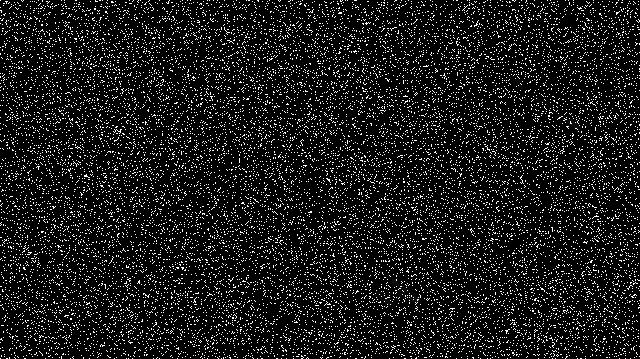pot: (327, 155, 433, 268)
